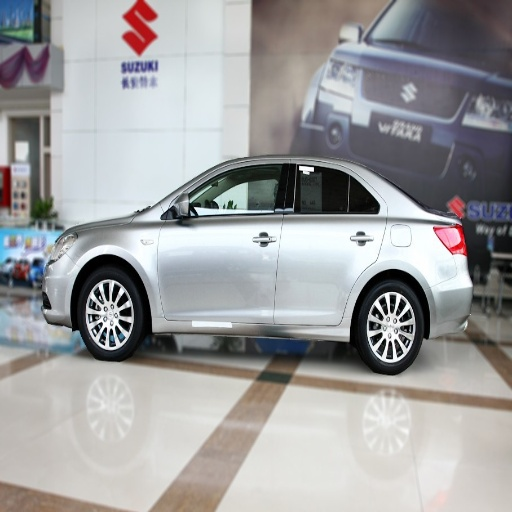back_bumper: (427, 253, 473, 332)
back_glass: (428, 1, 501, 32)
back_left_door: (275, 161, 385, 323)
front_glass: (365, 3, 442, 45)
front_left_door: (157, 161, 290, 320)
